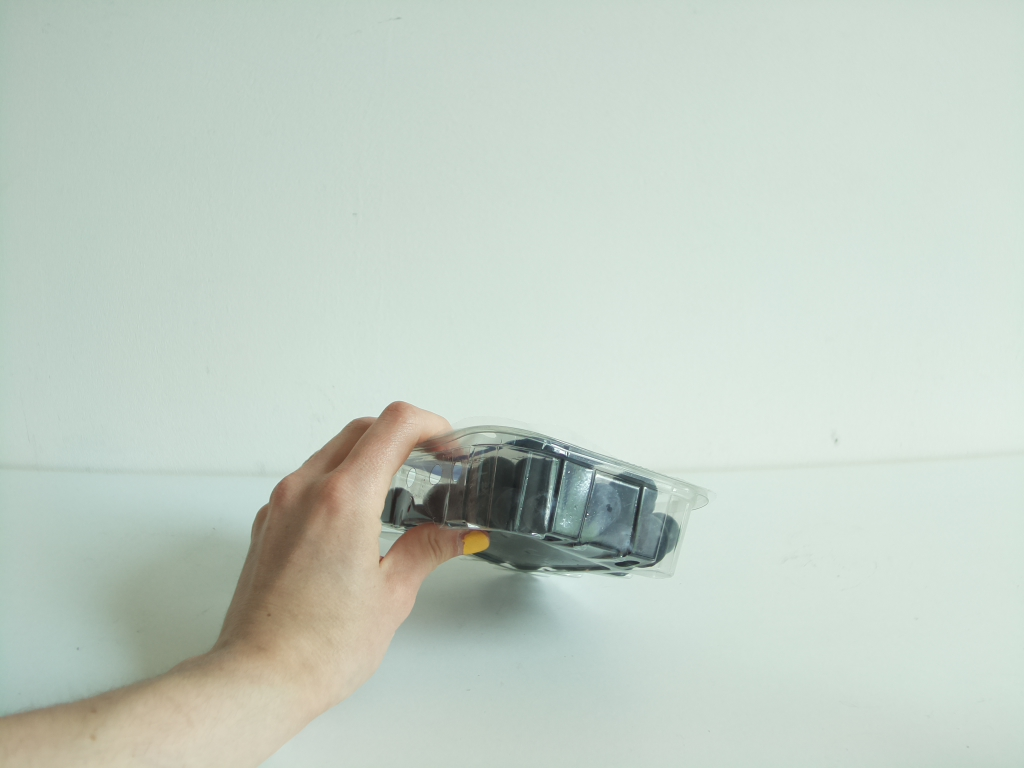soft-fruit: (363, 428, 712, 573)
